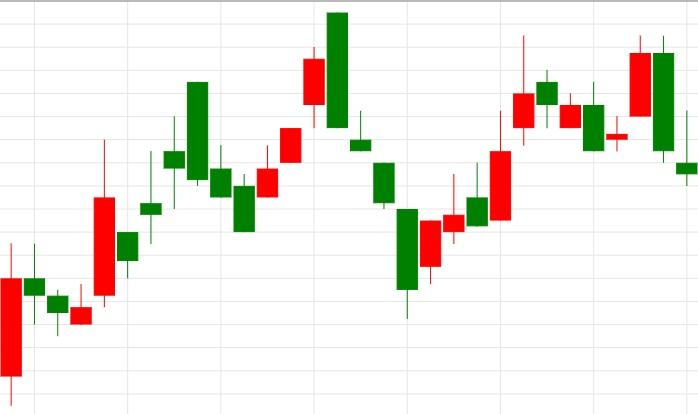bearish_engulfing_fall: (233, 12, 348, 232)
shooting_star_fall: (419, 35, 535, 284)
three_black_crows_fall: (233, 13, 395, 232)
